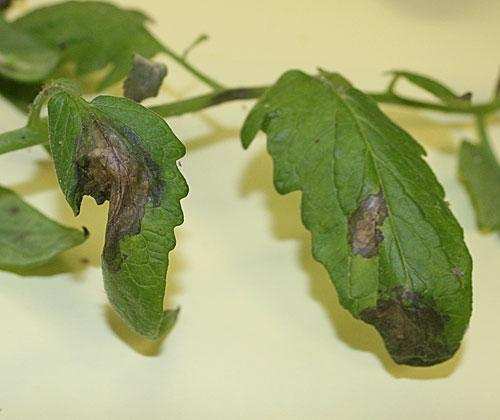Tomato leaf mosaic virus: (244, 39, 474, 386), (46, 78, 187, 363)
